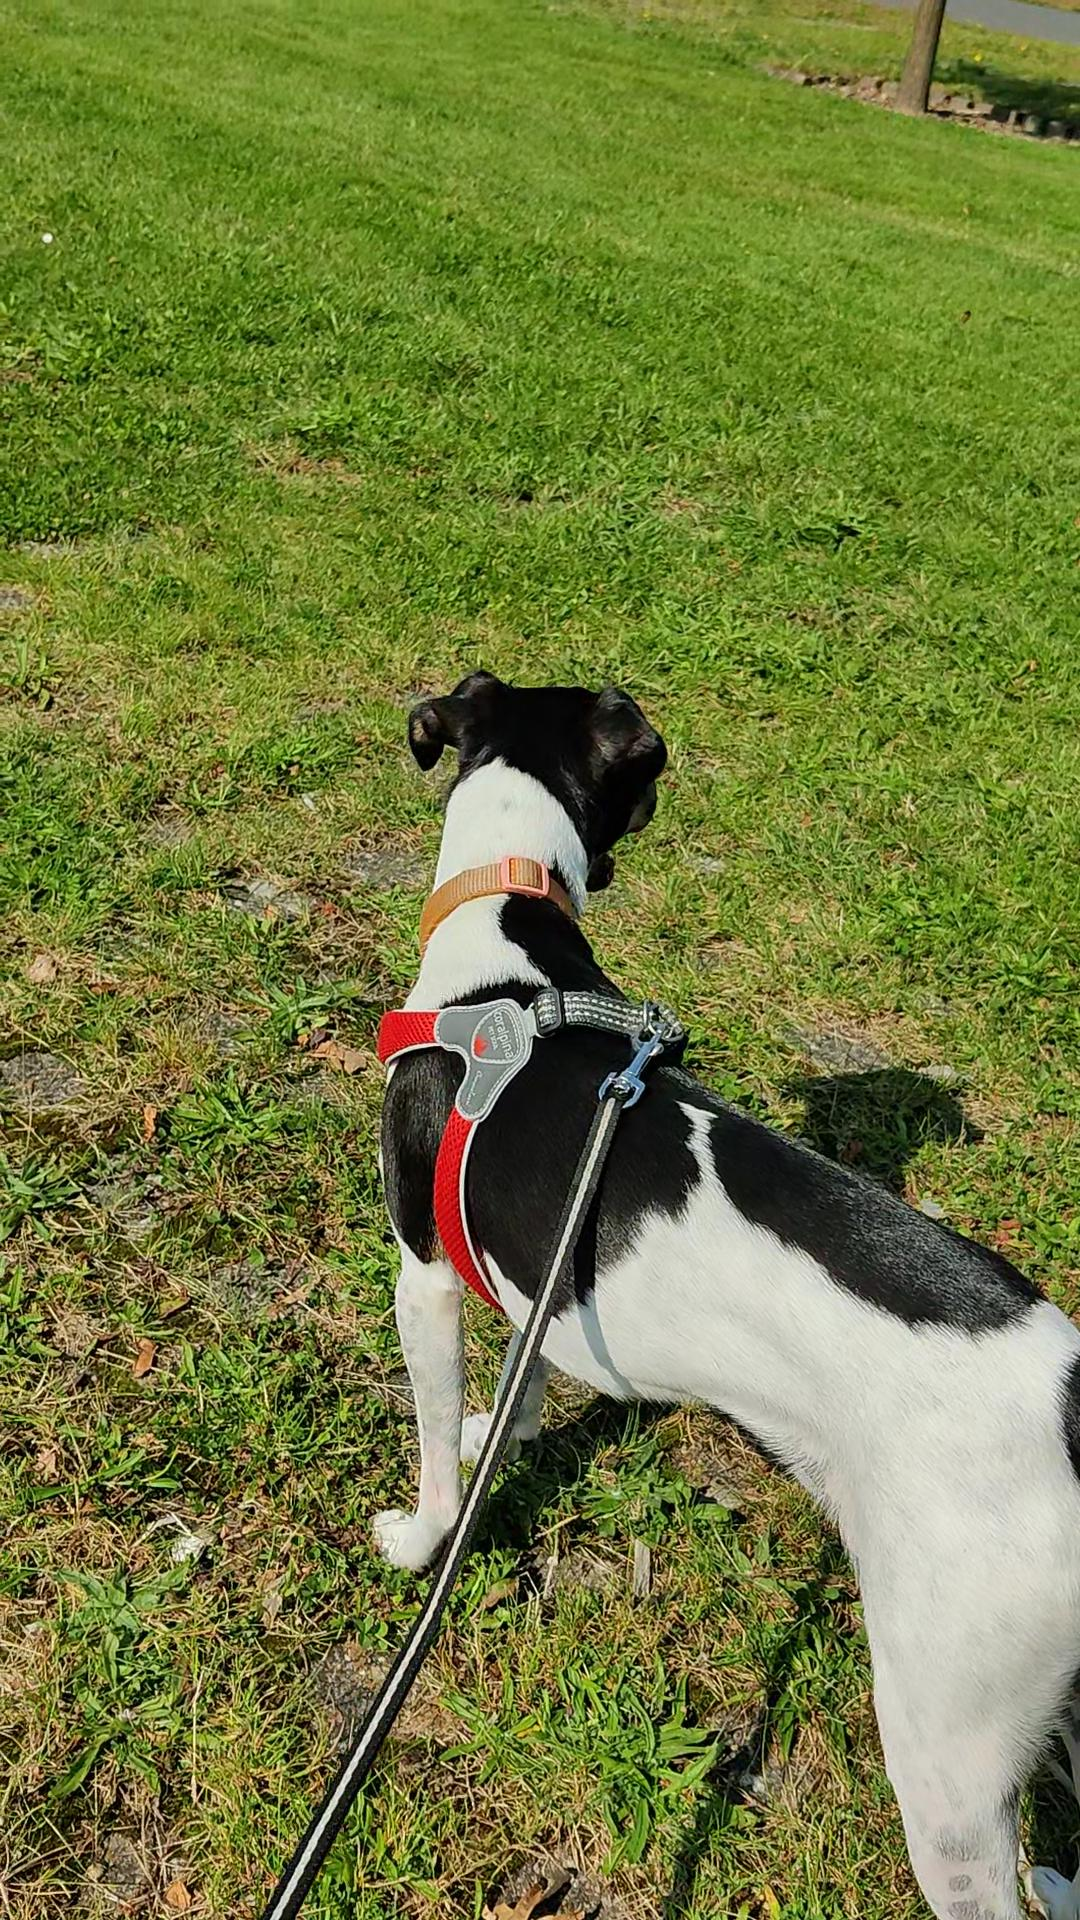Dog: (357, 659, 1079, 1919)
